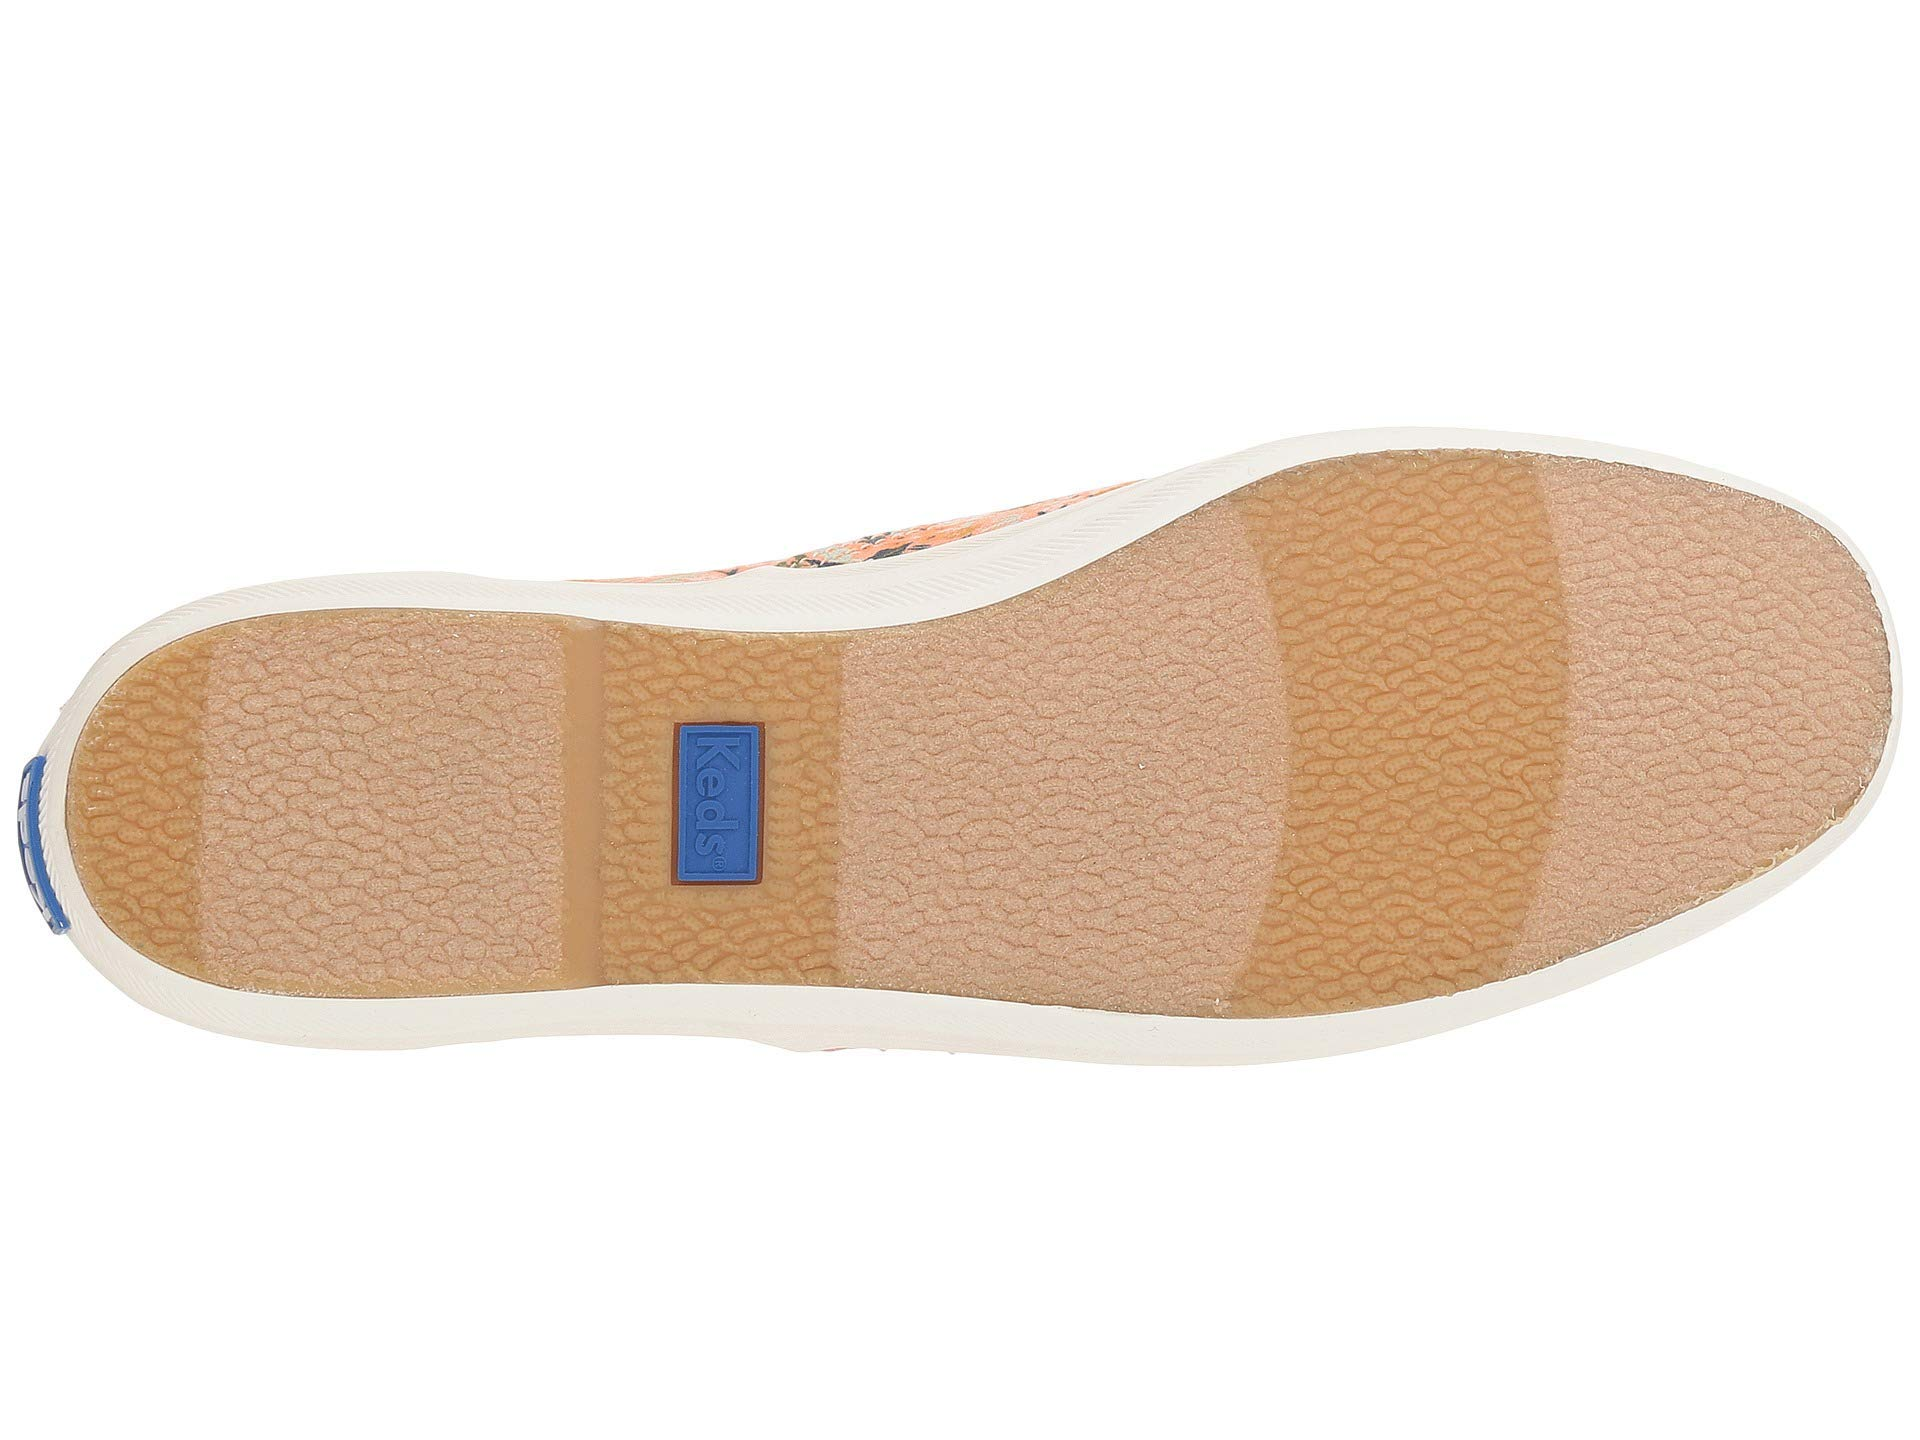quad: (965, 601, 1710, 902), (667, 712, 786, 911)
text: (667, 712, 786, 911)
